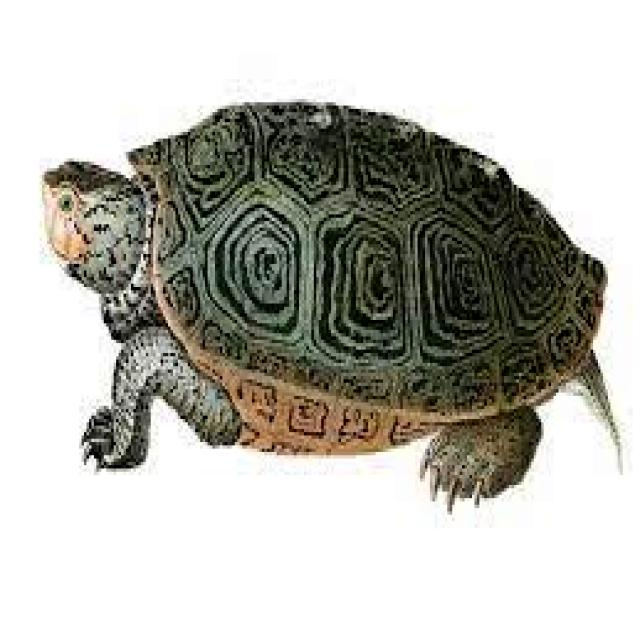Sea turtle: (21, 87, 639, 519)
